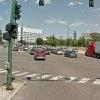Traffic light: (4, 3, 28, 50)
